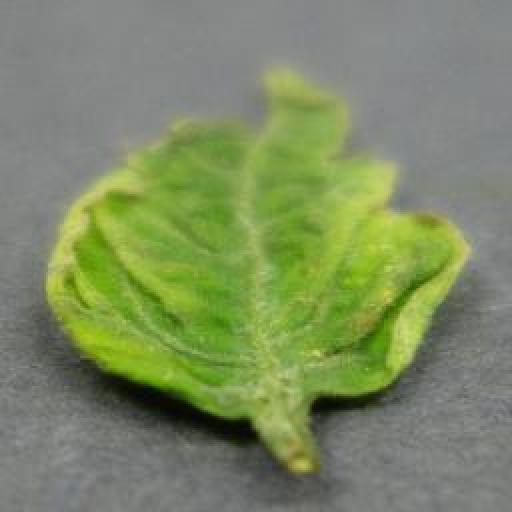disease_tomato: (47, 68, 469, 419)
